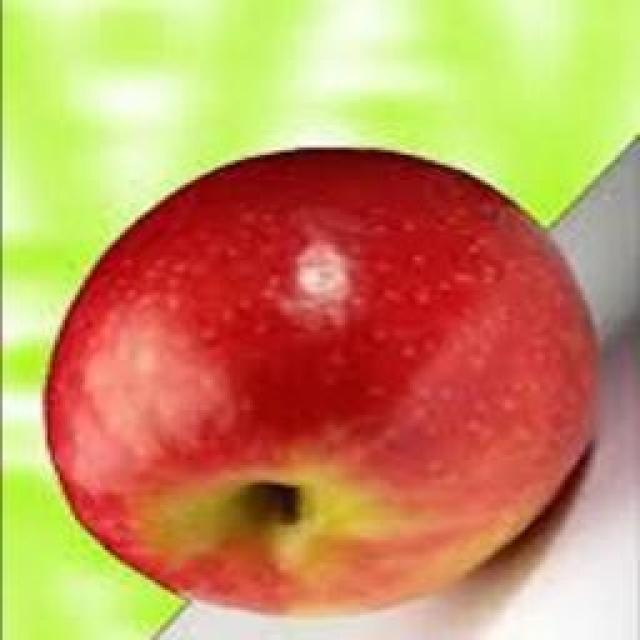apple: (46, 150, 595, 610)
